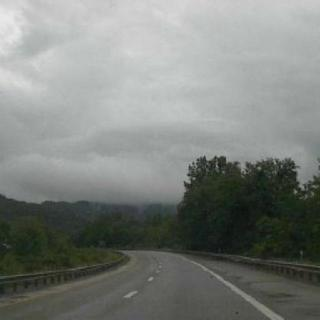Nimbostratus: (0, 0, 320, 202)
